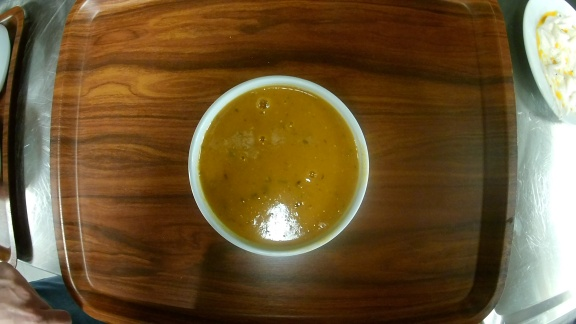ezogelin: (183, 74, 372, 256)
